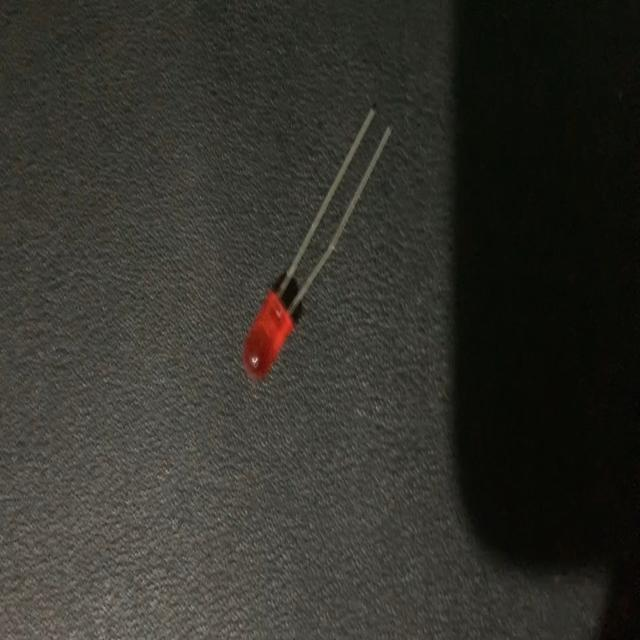LED: (238, 101, 395, 387)
